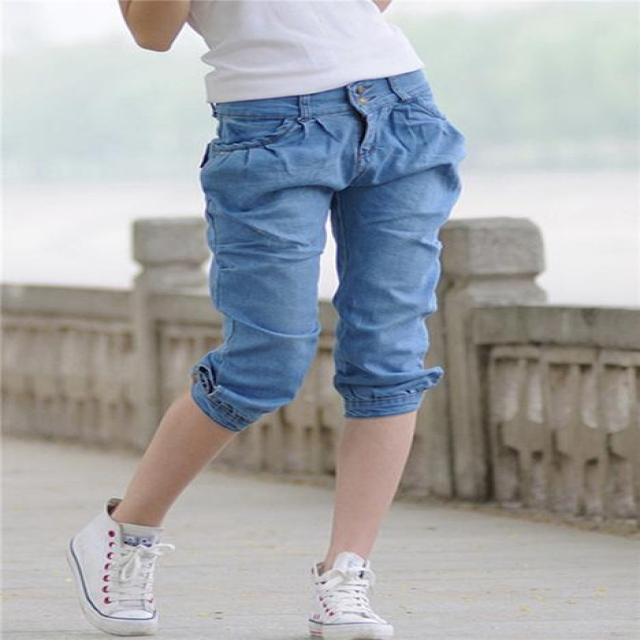short sleeve top: (183, 0, 421, 102)
trousers: (193, 68, 444, 431)
